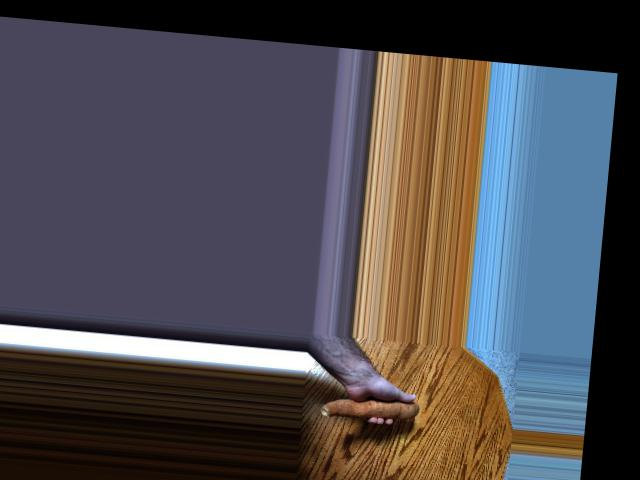sweet_potato: (319, 385, 416, 423)
